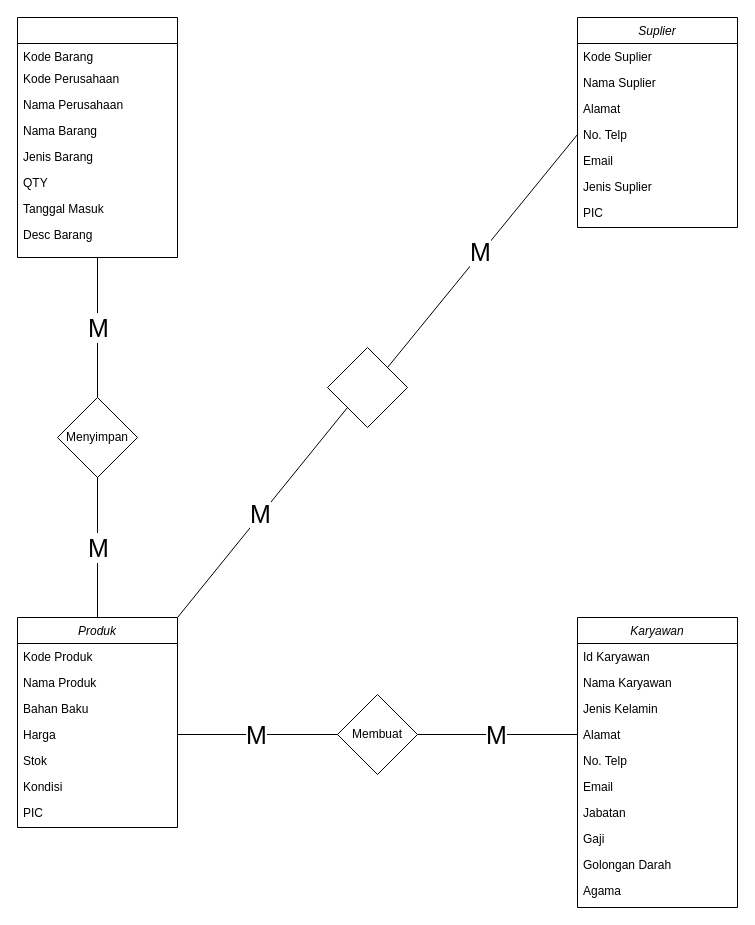
The diagram is 755 pixels wide and 925 high, and some of its shapes have lost their labels. The box of each missing label's shape, as (x1, y1, x2, y2) in pixels:
Gudang: (16, 16, 178, 258)
Pemasok: (326, 346, 408, 428)
